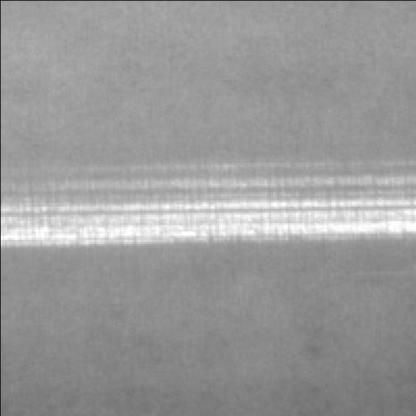scratches: (6, 174, 416, 245)
